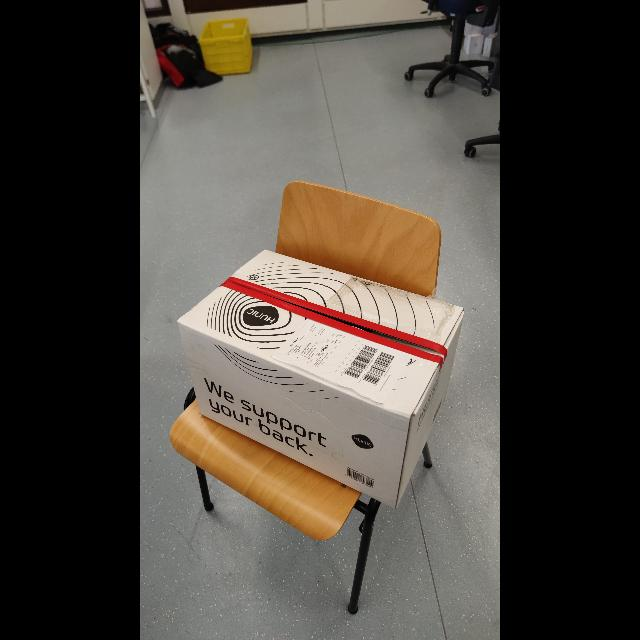cardboard_box: (160, 246, 470, 512)
